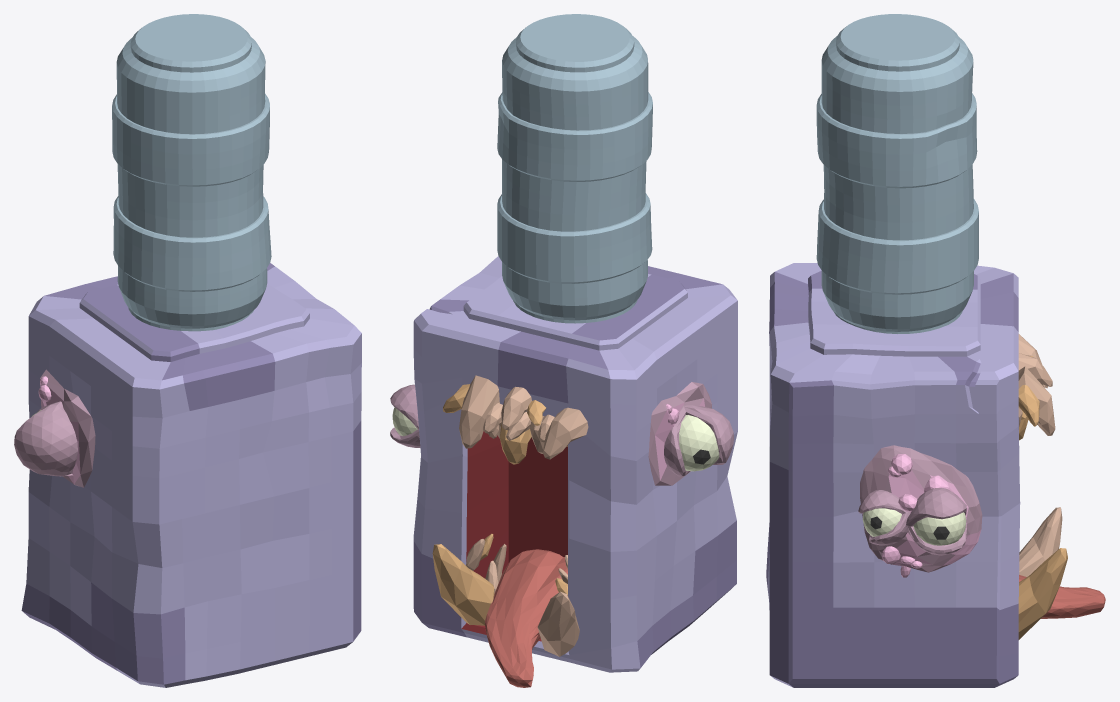
File: monster_dispenser_thing_colour.fbx
3 views of the same model, side by side, from view 1: azimuth 30°, elevation 25°; view 2: azimuth 150°, elevation 25°; view 3: azimuth 270°, elevation 25° (orthographic). The views are drawn at different scales.
Visible parts, largest first — view 1: main body, tank, eye.002, Icosphere; view 2: main body, tank, teeth top, tongue, bottom teeth, eye.002, Icosphere, eye; view 3: main body, tank, goop1, bottom teeth, eye, teeth top, eye.001, tongue.
Boxes of the visible parts, <box> form: main body: <box>21,263,361,687</box>; tank: <box>112,14,271,331</box>; eye.002: <box>14,401,77,476</box>; Icosphere: <box>38,369,95,487</box>; main body: <box>413,256,737,672</box>; tank: <box>497,14,652,323</box>; teeth top: <box>443,375,588,464</box>; tongue: <box>485,549,567,687</box>; bottom teeth: <box>432,533,579,656</box>; eye.002: <box>664,405,733,476</box>; Icosphere: <box>648,382,711,485</box>; eye: <box>390,384,420,447</box>; main body: <box>766,263,1020,687</box>; tank: <box>816,14,978,333</box>; goop1: <box>860,445,982,577</box>; bottom teeth: <box>1018,507,1067,639</box>; eye: <box>906,488,966,555</box>; teeth top: <box>1018,334,1055,440</box>; eye.001: <box>858,490,910,545</box>; tongue: <box>1019,575,1105,618</box>.
Size of the model in its own units: 664 by 1123 by 580.
